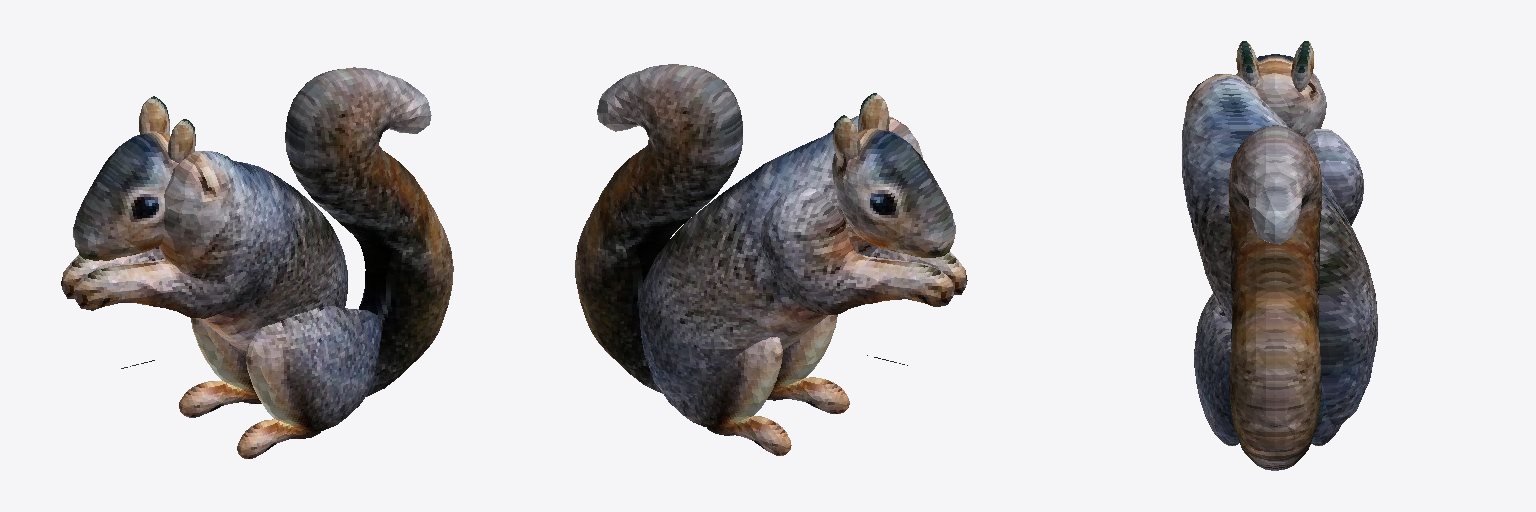
The picture shows the model from 3 angles: view 1: azimuth 30°, elevation 25°; view 2: azimuth 150°, elevation 25°; view 3: azimuth 270°, elevation 25°; orthographic projection.
Size of the model in its own units: 1.15 by 0.9865 by 0.5128.
Materials: 1 (1 with a texture image).